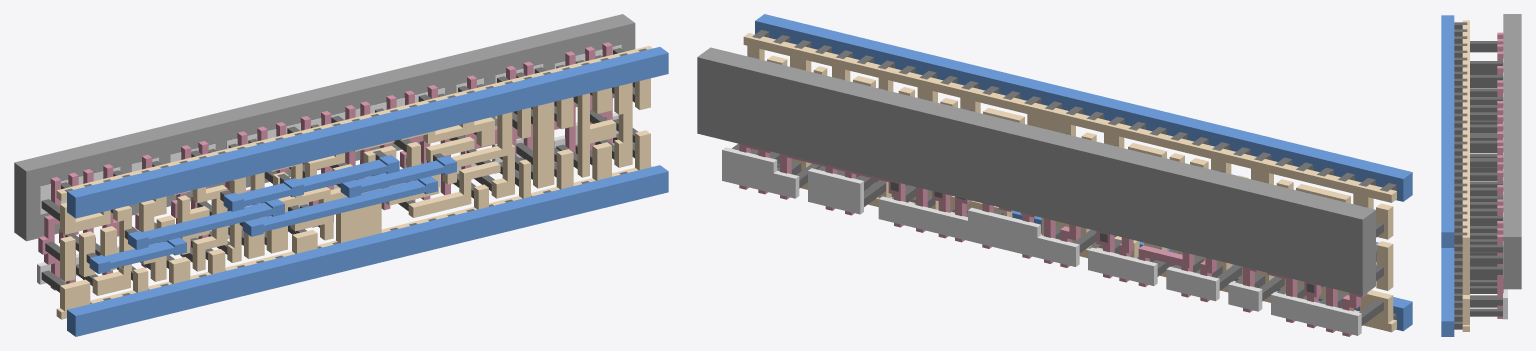
The model's file is sky130_fd_sc_hd__sdfsbp_2.gds.gltf.
3 views of the same model, side by side, from view 1: azimuth 30°, elevation 25°; view 2: azimuth 150°, elevation 25°; view 3: azimuth 270°, elevation 25° (orthographic). The views are drawn at different scales.
Visible parts, largest first — view 1: sky130_fd_sc_hd__sdfsbp_2_met1, sky130_fd_sc_hd__sdfsbp_2_li1, sky130_fd_sc_hd__sdfsbp_2_nwell, sky130_fd_sc_hd__sdfsbp_2_poly, sky130_fd_sc_hd__sdfsbp_2_licon, sky130_fd_sc_hd__sdfsbp_2_diff, sky130_fd_sc_hd__sdfsbp_2_mcon; view 2: sky130_fd_sc_hd__sdfsbp_2_nwell, sky130_fd_sc_hd__sdfsbp_2_li1, sky130_fd_sc_hd__sdfsbp_2_diff, sky130_fd_sc_hd__sdfsbp_2_met1, sky130_fd_sc_hd__sdfsbp_2_poly, sky130_fd_sc_hd__sdfsbp_2_licon, sky130_fd_sc_hd__sdfsbp_2_mcon; view 3: sky130_fd_sc_hd__sdfsbp_2_licon, sky130_fd_sc_hd__sdfsbp_2_nwell, sky130_fd_sc_hd__sdfsbp_2_met1, sky130_fd_sc_hd__sdfsbp_2_mcon, sky130_fd_sc_hd__sdfsbp_2_li1, sky130_fd_sc_hd__sdfsbp_2_poly, sky130_fd_sc_hd__sdfsbp_2_diff.
Part boxes in pixels (box(x1,y1,x2,y2)): sky130_fd_sc_hd__sdfsbp_2_met1: box(67, 47, 668, 336); sky130_fd_sc_hd__sdfsbp_2_li1: box(56, 46, 652, 319); sky130_fd_sc_hd__sdfsbp_2_nwell: box(14, 14, 635, 241); sky130_fd_sc_hd__sdfsbp_2_poly: box(38, 42, 612, 290); sky130_fd_sc_hd__sdfsbp_2_licon: box(41, 48, 637, 292); sky130_fd_sc_hd__sdfsbp_2_diff: box(37, 45, 621, 284); sky130_fd_sc_hd__sdfsbp_2_mcon: box(64, 48, 646, 303); sky130_fd_sc_hd__sdfsbp_2_nwell: box(697, 47, 1375, 295); sky130_fd_sc_hd__sdfsbp_2_li1: box(743, 33, 1396, 332); sky130_fd_sc_hd__sdfsbp_2_diff: box(722, 147, 1361, 335); sky130_fd_sc_hd__sdfsbp_2_met1: box(755, 14, 1412, 331); sky130_fd_sc_hd__sdfsbp_2_poly: box(739, 144, 1367, 336); sky130_fd_sc_hd__sdfsbp_2_licon: box(732, 57, 1383, 325); sky130_fd_sc_hd__sdfsbp_2_mcon: box(752, 30, 1396, 320); sky130_fd_sc_hd__sdfsbp_2_licon: box(1470, 41, 1502, 316); sky130_fd_sc_hd__sdfsbp_2_nwell: box(1503, 14, 1521, 289); sky130_fd_sc_hd__sdfsbp_2_met1: box(1441, 15, 1454, 336); sky130_fd_sc_hd__sdfsbp_2_mcon: box(1454, 22, 1467, 329); sky130_fd_sc_hd__sdfsbp_2_li1: box(1462, 20, 1469, 331); sky130_fd_sc_hd__sdfsbp_2_poly: box(1497, 32, 1503, 318); sky130_fd_sc_hd__sdfsbp_2_diff: box(1503, 51, 1507, 319).
Bounding box in the file's own units: 14.64 × 3.2 × 2.24.
